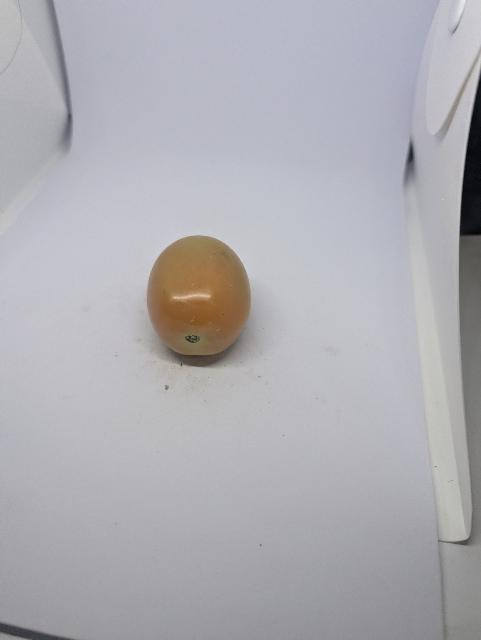turning: (141, 233, 256, 362)
